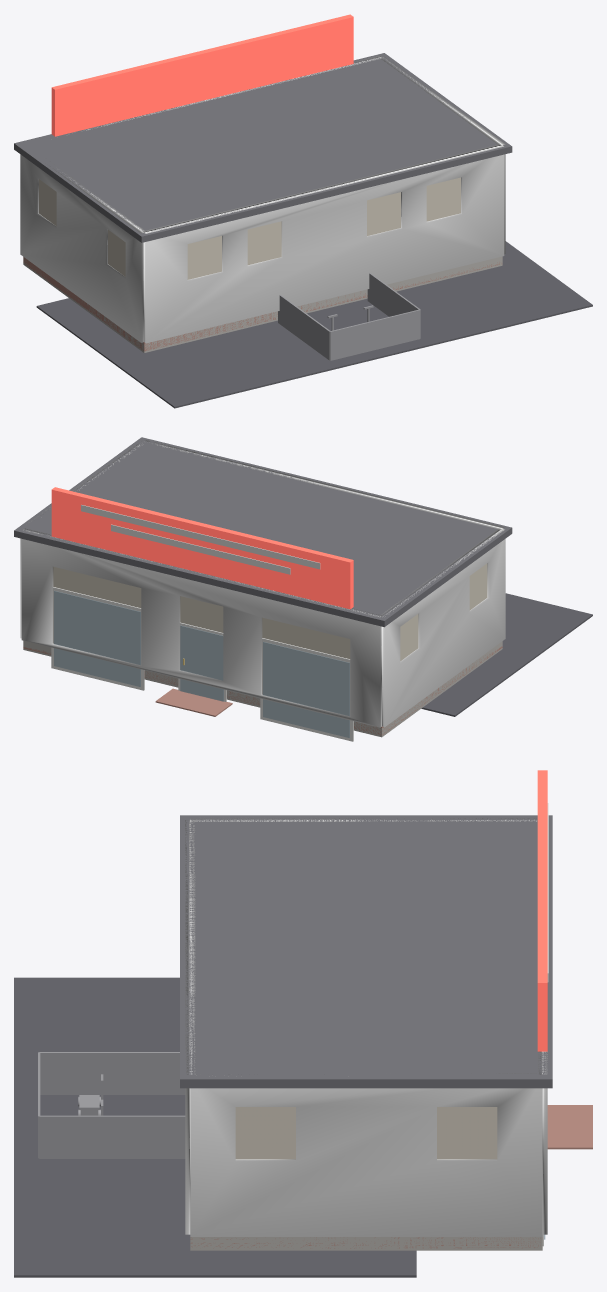
Rendered from grocery_store.glb.
The picture shows the model from 3 angles, top to bottom: view 1: azimuth 30°, elevation 25°; view 2: azimuth 150°, elevation 25°; view 3: azimuth 270°, elevation 25°; orthographic projection. The views are drawn at different scales.
Visible parts, largest first — view 1: roof, back_wall, parking, sign_back, left_wall, upper_stucco, foundation, cart_corral_b, lower_brick, cart_corral_l, cart_corral_r, right_wall; view 2: roof, front_wall, sign_back, left_wall, storefront_r_frame, storefront_l_frame, storefront_l_glass, storefront_r_glass, parking, upper_stucco, door_frame, door_glass (+7 smaller); view 3: roof, right_wall, parking, cart_corral_r, upper_stucco, cart_corral_l, foundation, sign_back, back_wall, mat, front_wall, left_wall.
Boxes of the visible parts, x1,y1,x2,y2 form: roof: [14, 53, 512, 242]; back_wall: [143, 145, 504, 343]; parking: [36, 241, 592, 408]; sign_back: [51, 14, 353, 136]; left_wall: [20, 154, 144, 342]; upper_stucco: [39, 177, 460, 279]; foundation: [23, 256, 502, 352]; cart_corral_b: [330, 309, 420, 360]; lower_brick: [23, 257, 501, 351]; cart_corral_l: [278, 295, 330, 360]; cart_corral_r: [367, 273, 420, 338]; right_wall: [381, 57, 505, 254]; roof: [14, 437, 512, 627]; front_wall: [21, 528, 382, 727]; sign_back: [51, 487, 353, 609]; left_wall: [380, 528, 505, 726]; storefront_r_frame: [51, 587, 144, 690]; storefront_l_frame: [260, 638, 353, 741]; storefront_l_glass: [263, 642, 349, 737]; storefront_r_glass: [54, 591, 140, 686]; parking: [421, 593, 592, 716]; upper_stucco: [53, 563, 487, 660]; door_frame: [178, 622, 226, 701]; door_glass: [180, 625, 223, 701]; roof: [180, 815, 552, 1088]; right_wall: [190, 1073, 542, 1236]; parking: [14, 977, 416, 1277]; cart_corral_r: [39, 1115, 185, 1158]; upper_stucco: [235, 1107, 497, 1159]; cart_corral_l: [39, 1052, 185, 1094]; foundation: [190, 1237, 542, 1250]; sign_back: [537, 770, 547, 1051]; back_wall: [185, 819, 195, 1234]; mat: [547, 1105, 592, 1149]; front_wall: [538, 1051, 547, 1234]; left_wall: [190, 817, 536, 821].
Bounding box in the file's own units: 14 × 5.75 × 11.5.
